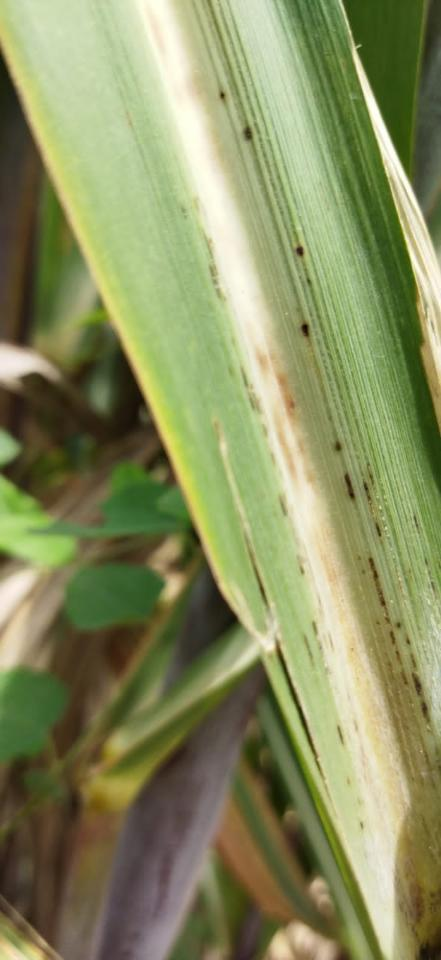Rust: (366, 554, 433, 726), (239, 361, 272, 441), (196, 222, 224, 306), (362, 478, 385, 541), (301, 631, 317, 671), (311, 619, 327, 656), (342, 472, 358, 502), (276, 491, 292, 518), (299, 318, 316, 342), (294, 553, 310, 578), (365, 461, 377, 490), (293, 242, 310, 261), (242, 124, 255, 143), (336, 723, 346, 747), (217, 87, 228, 104), (332, 439, 344, 453)
